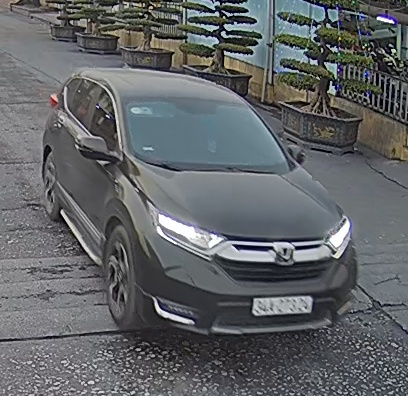vehicle plate: (247, 293, 315, 314)
